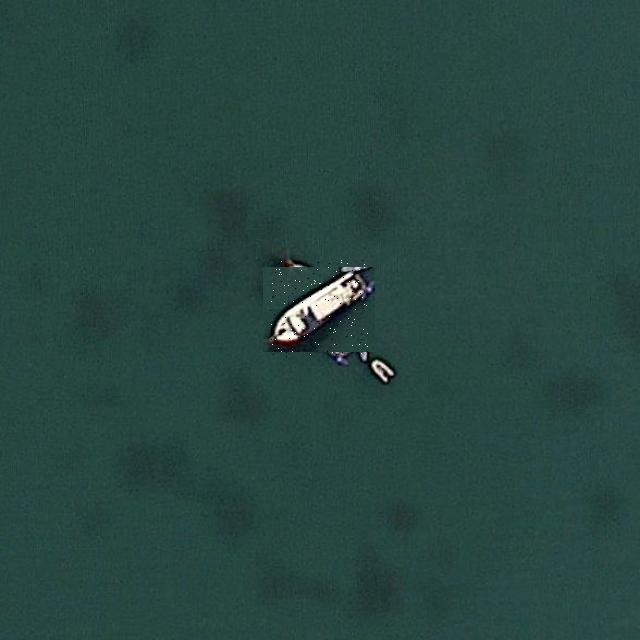boat: (270, 260, 368, 358)
